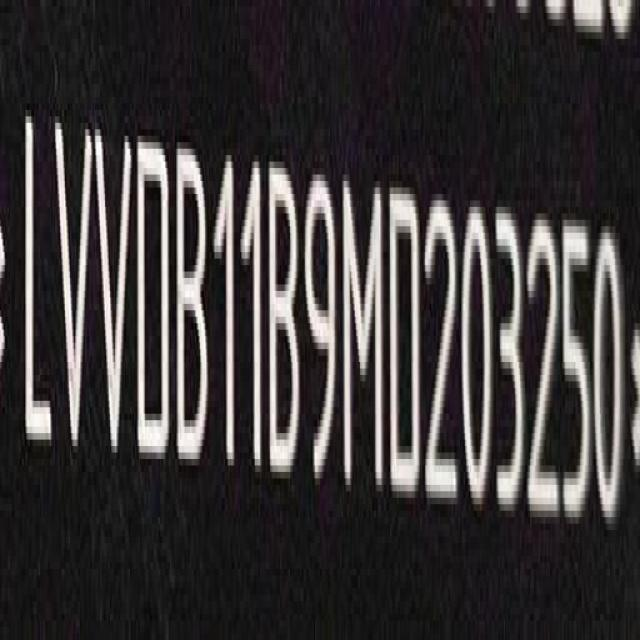0: (463, 201, 494, 515), (596, 226, 624, 530)
1: (212, 148, 236, 476), (240, 152, 262, 484)
2: (426, 194, 460, 514), (528, 210, 560, 528)
3: (498, 211, 527, 523)
5: (562, 213, 593, 524)
9: (305, 172, 339, 496)
B: (178, 141, 212, 472), (268, 158, 302, 485)
D: (134, 130, 170, 474), (391, 179, 424, 507)
L: (21, 109, 54, 464)
M: (343, 173, 384, 504)
V: (52, 114, 92, 467), (96, 118, 134, 470)
